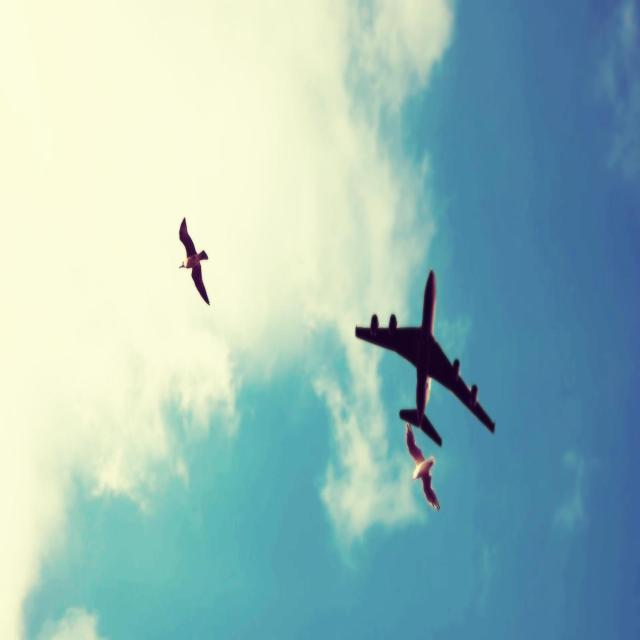airplane: (355, 268, 495, 447)
